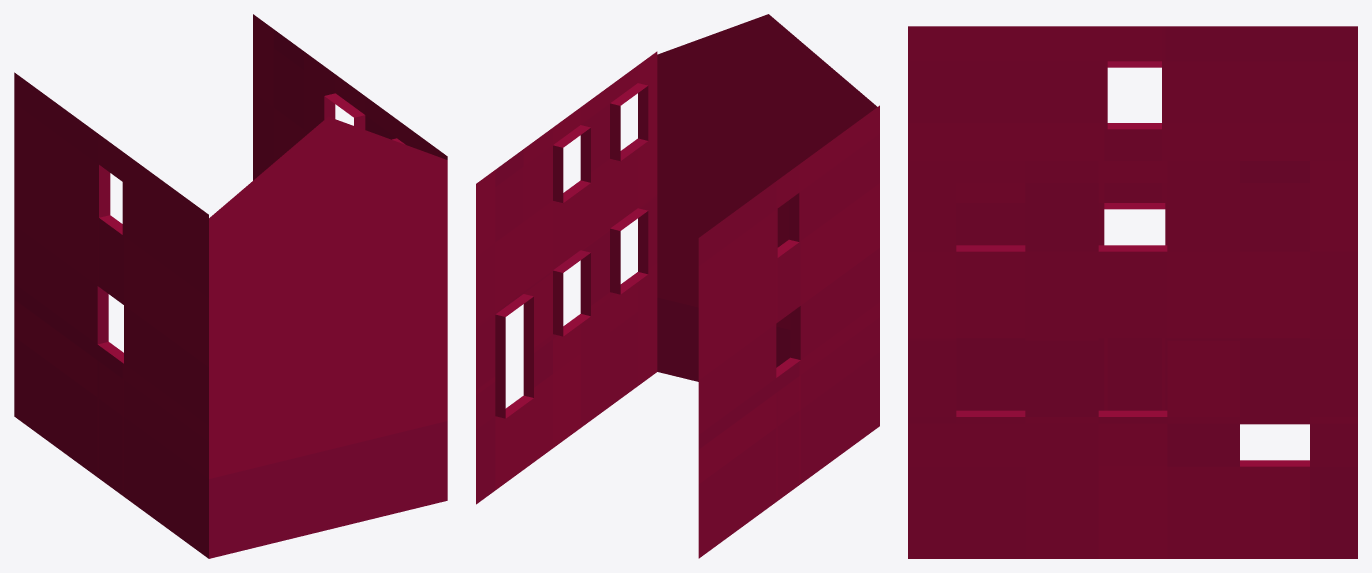
File: SM_Bld_084_Masonry.glb
3 renders of one model, left to right at view 1: azimuth 30°, elevation 25°; view 2: azimuth 150°, elevation 25°; view 3: azimuth 270°, elevation 25°, orthographic. The views are drawn at different scales.
Visible parts, largest first — view 1: SM_Bld_084_Masonry; view 2: SM_Bld_084_Masonry; view 3: SM_Bld_084_Masonry.
Part boxes in pixels (left/top/right/bottom): SM_Bld_084_Masonry: left=14, top=14, right=447, bottom=558; SM_Bld_084_Masonry: left=476, top=14, right=879, bottom=558; SM_Bld_084_Masonry: left=908, top=26, right=1357, bottom=558.
Size of the model in its own units: 4.7 by 7.77 by 6.63.
